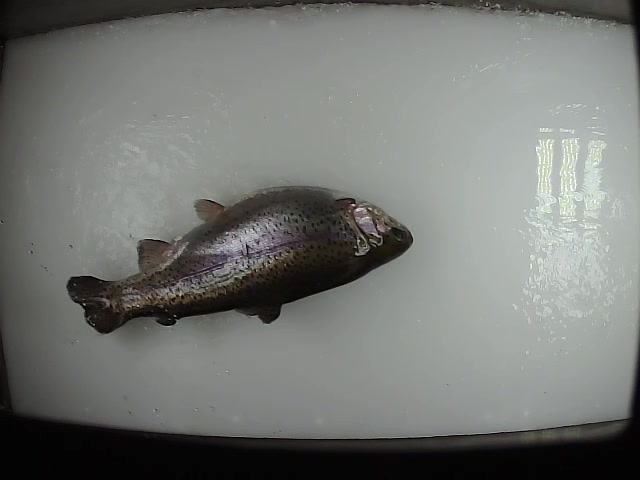fish: (65, 182, 416, 337)
